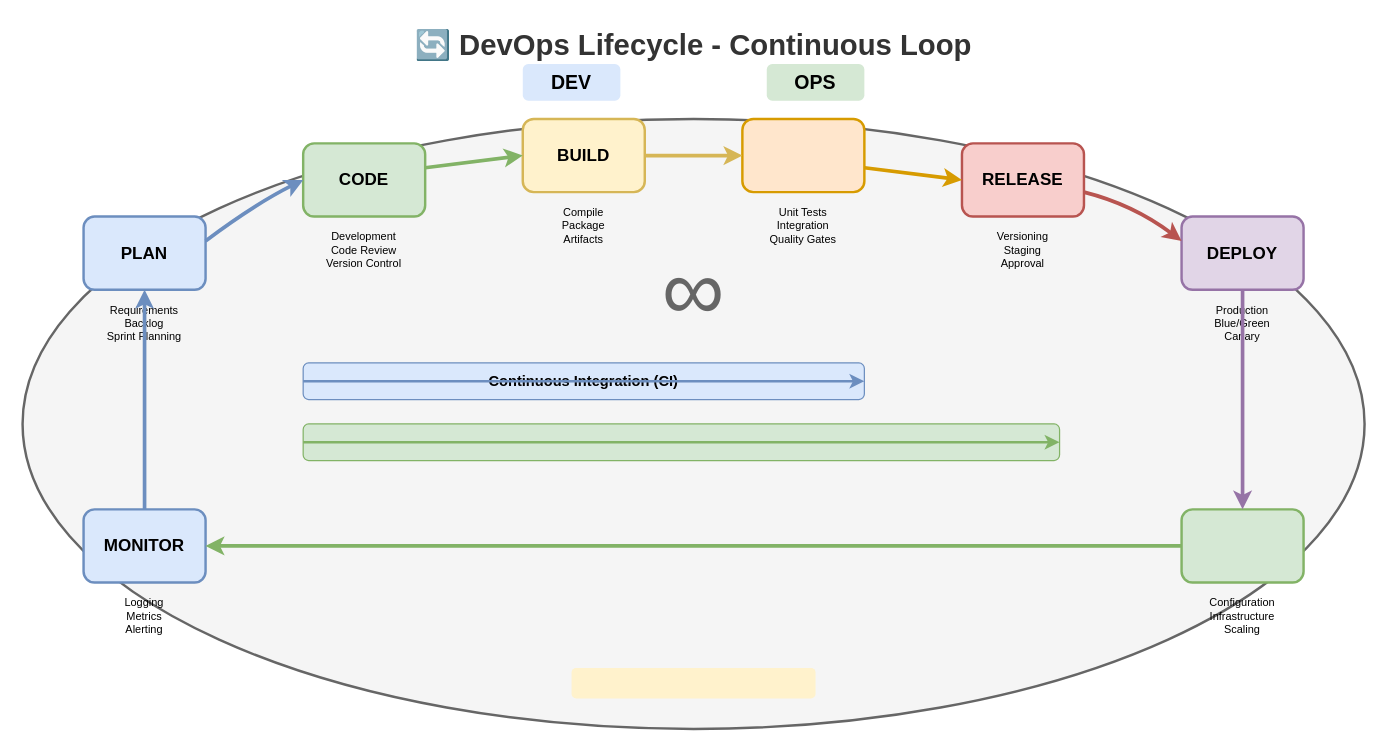
The diagram is 1386 pixels wide and 750 high, and some of its shapes have lost their labels. Each missing label, with the box of its shape:
Continuous Delivery/Deployment (CD): (302, 423, 1060, 461)
Continuous Feedback Loop: (571, 667, 815, 698)
OPERATE: (1180, 508, 1304, 583)
TEST: (741, 117, 865, 193)
